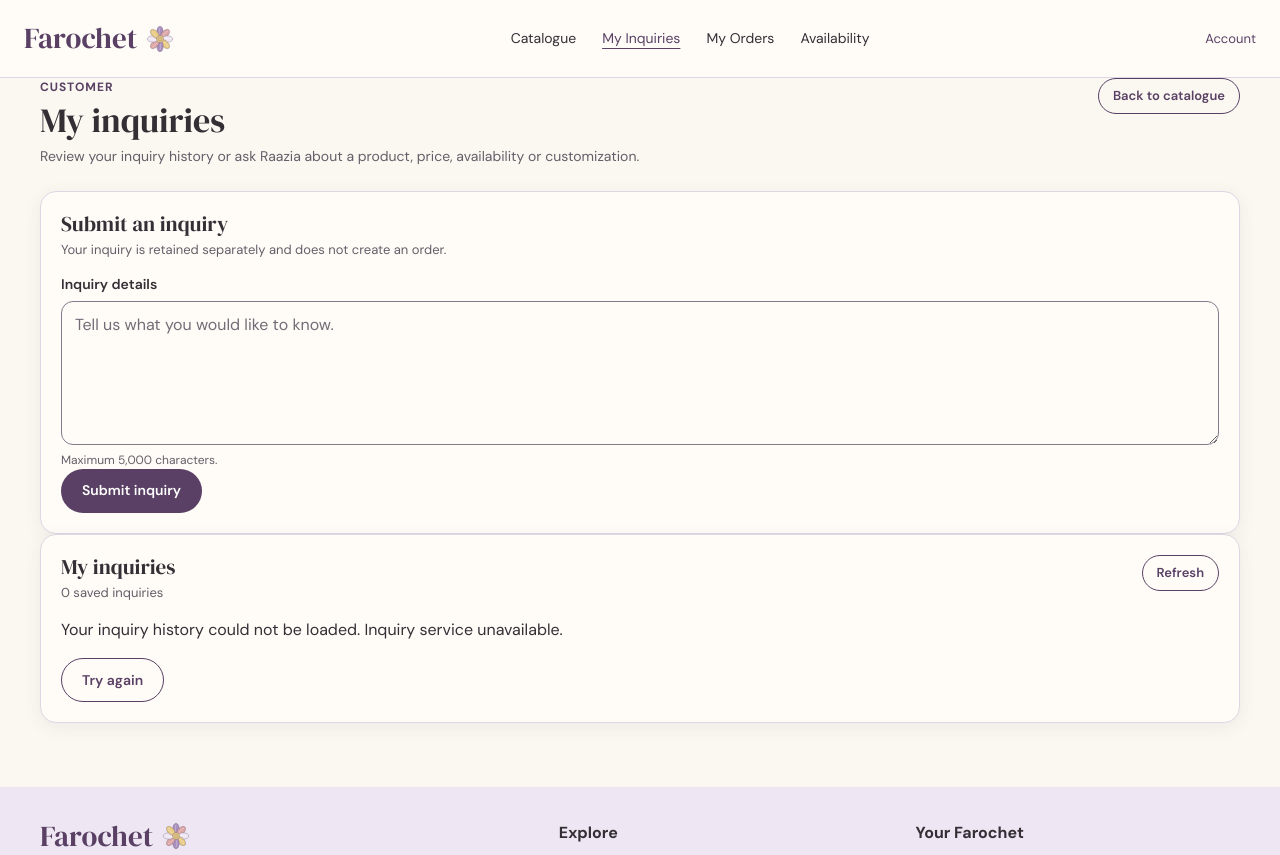
it: CustomerInquiryPage › shows history failure and allows retry without presenting it as empty
expect the text "Your inquiry history could not be loaded. Inquiry service unavailable." is shown: met, box [61,619,563,640]
Click the button "Try again" at coordinates (113, 680), box [61,658,164,702]
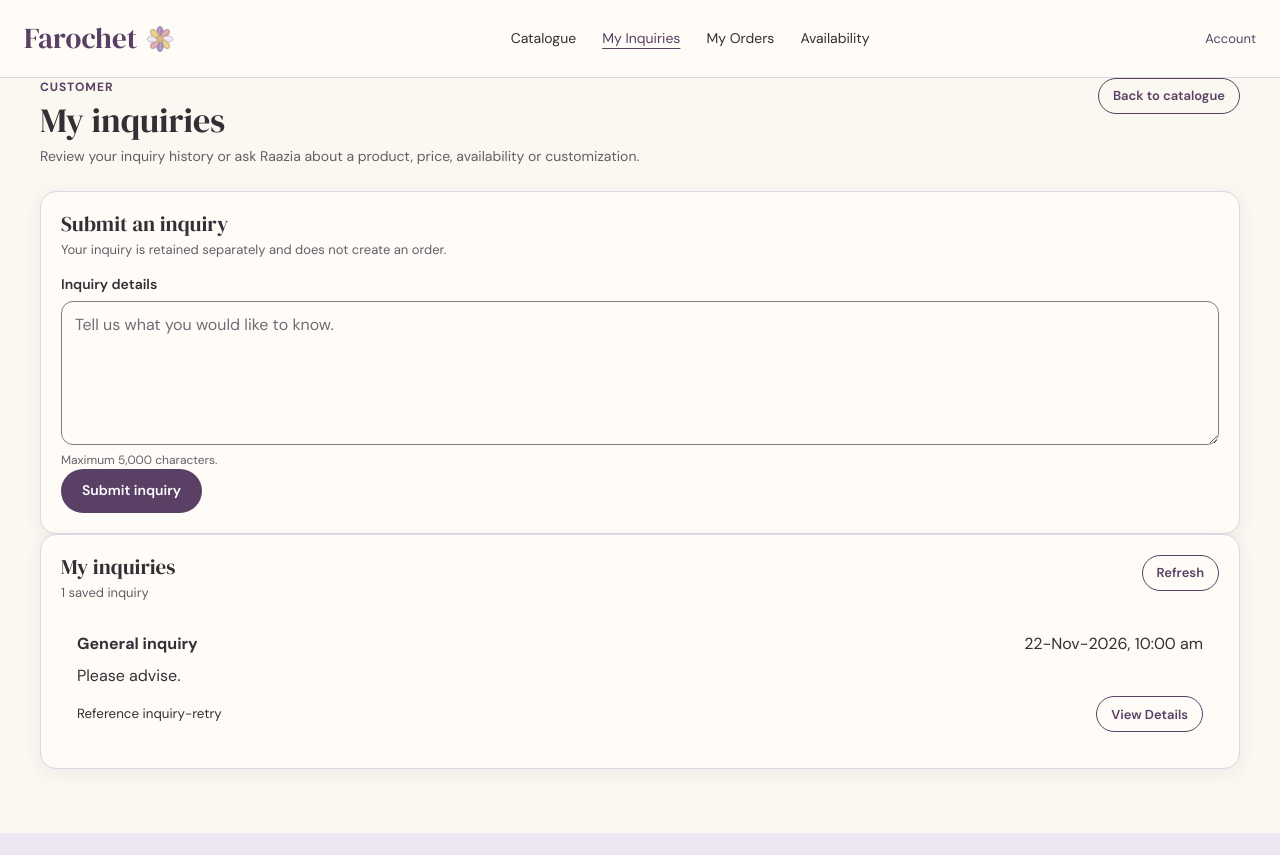
expect the text "Please advise." is shown: met, box [77,665,180,686]
